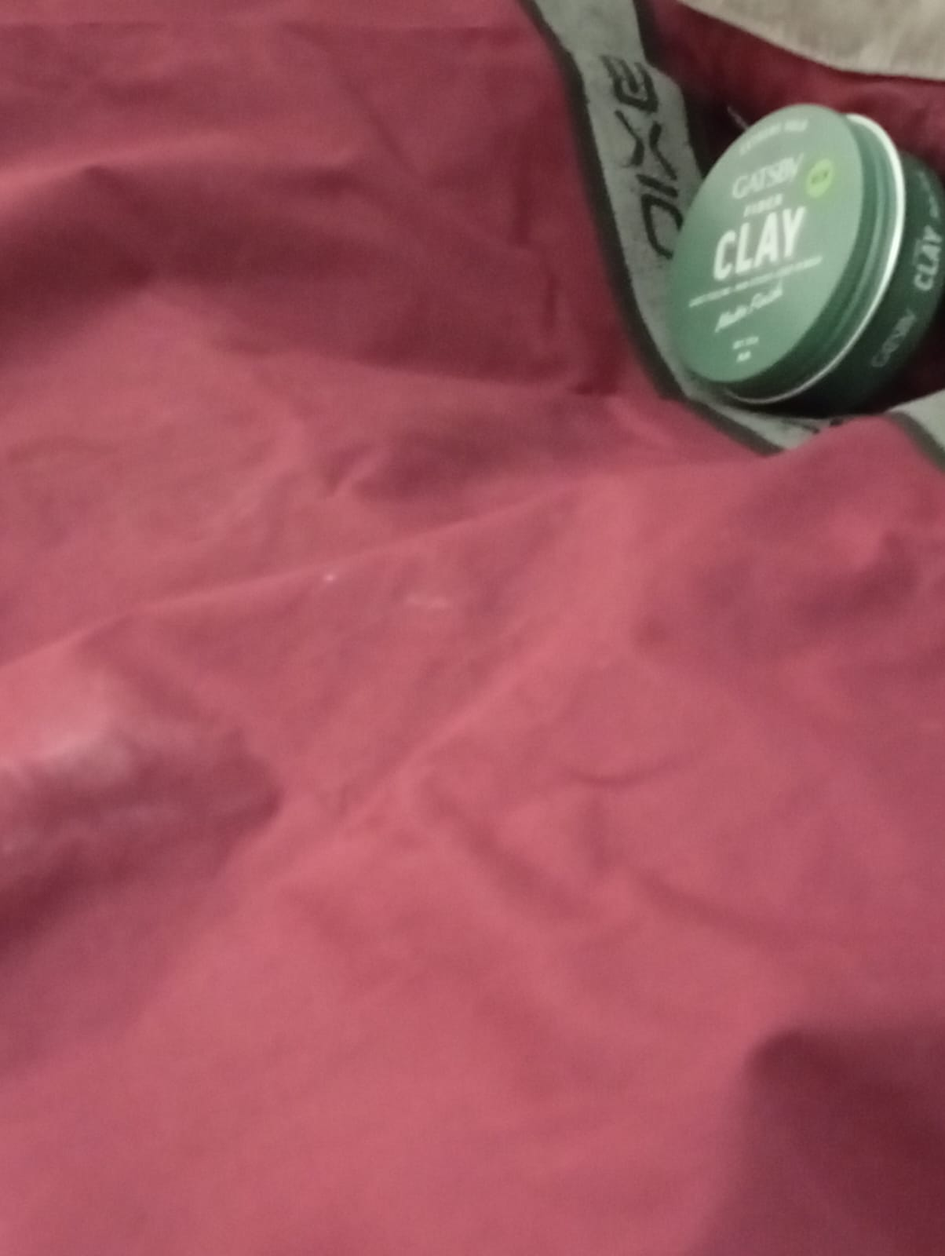Minyak_Rambut: (624, 75, 945, 434)
